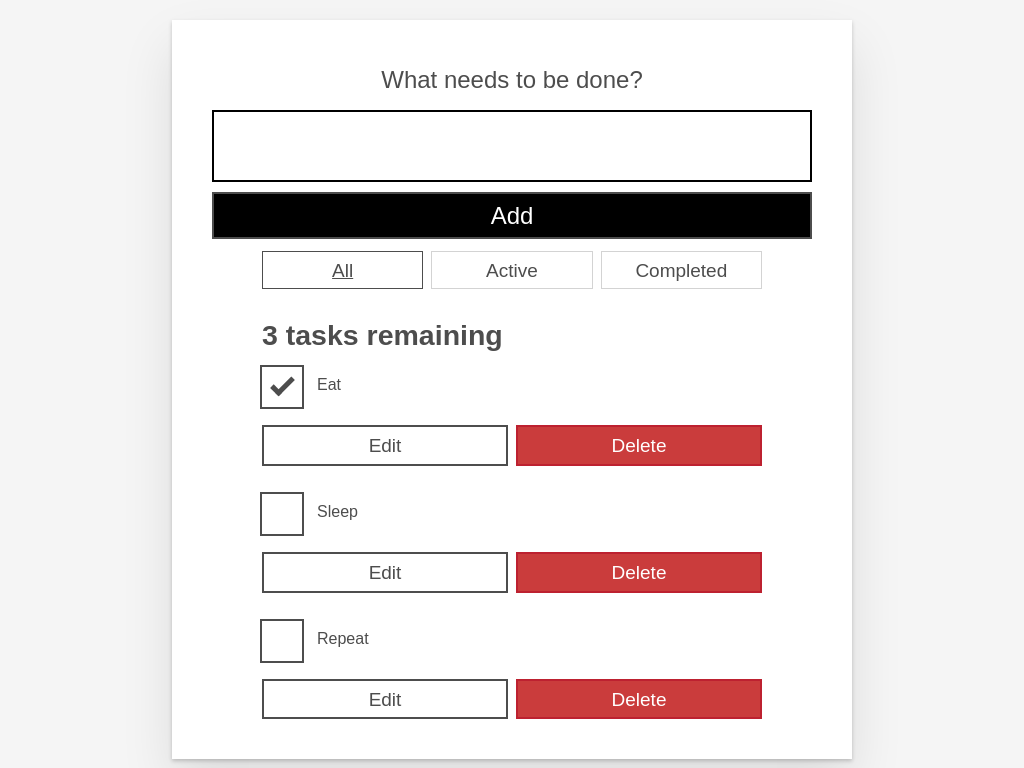
Test: Filter tasks › Filter Completed tasks
The width and height of the screenshot is (1024, 768).
Click the button "Completed": {"x": 682, "y": 271} [601,251,762,290]
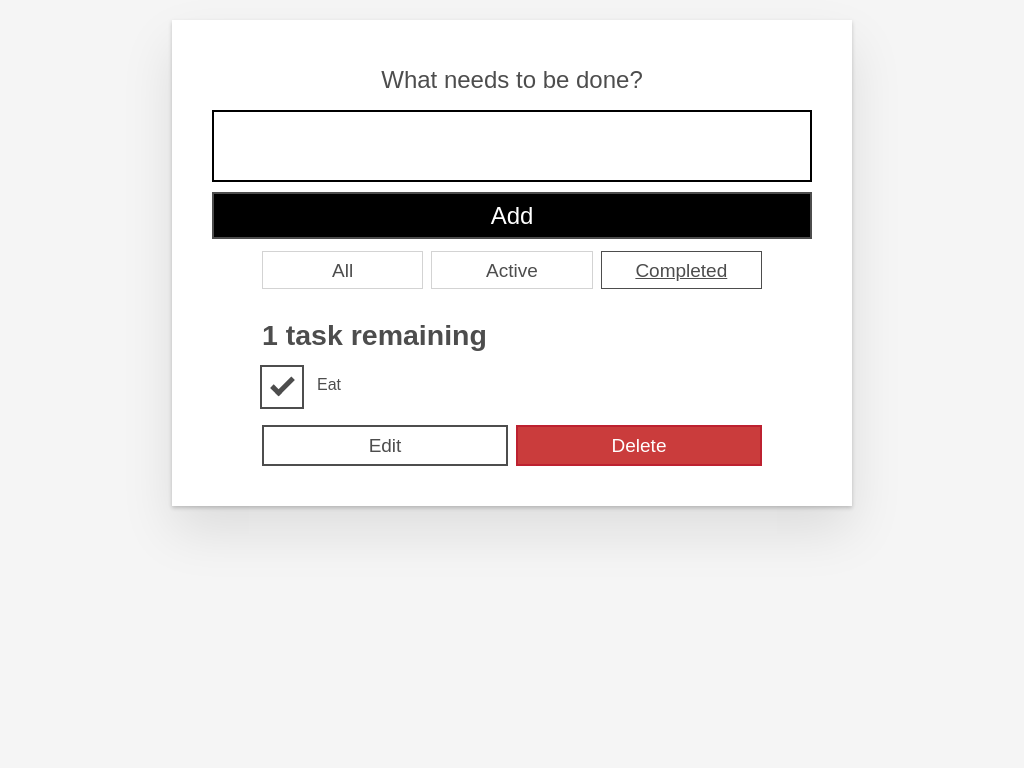
expect the checkbox "Eat" is shown: met, box [302,367,356,400]
expect the checkbox "Sleep" is gone: met
expect the checkbox "Repeat" is gone: met
